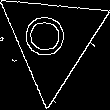O_E: (27, 16, 77, 64)
